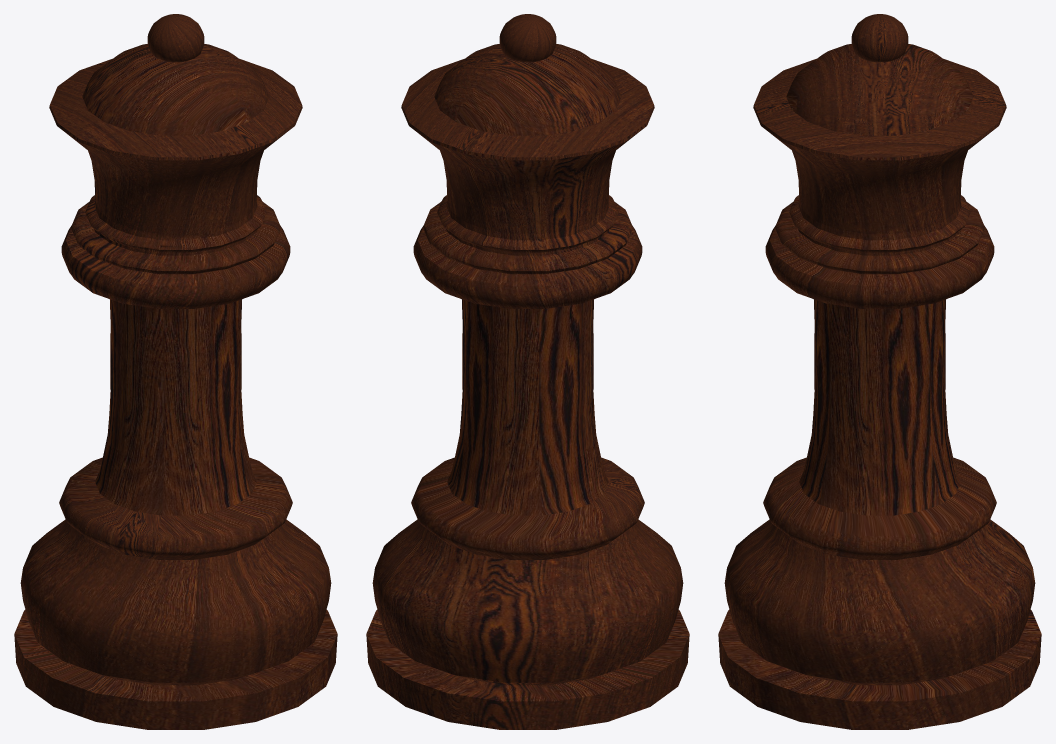
File: black_queen.obj
The picture shows the model from 3 angles, left to right: view 1: azimuth 30°, elevation 25°; view 2: azimuth 150°, elevation 25°; view 3: azimuth 270°, elevation 25°; orthographic projection.
Visible parts, largest first — view 1: Queen_B_Material_008_0.001; view 2: Queen_B_Material_008_0.001; view 3: Queen_B_Material_008_0.001.
Boxes of the visible parts, x1=… form: Queen_B_Material_008_0.001: x1=14, y1=14, x2=337, y2=729; Queen_B_Material_008_0.001: x1=366, y1=14, x2=689, y2=729; Queen_B_Material_008_0.001: x1=718, y1=14, x2=1041, y2=729.
Bounding box in the file's own units: 2.63 × 5.96 × 2.67.
